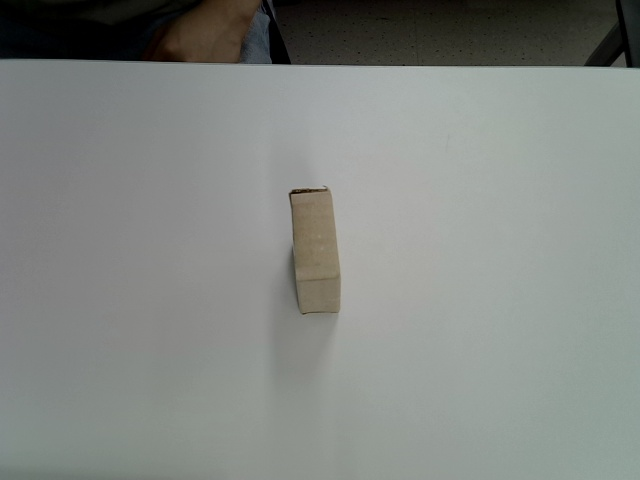normal: (288, 185, 344, 315)
